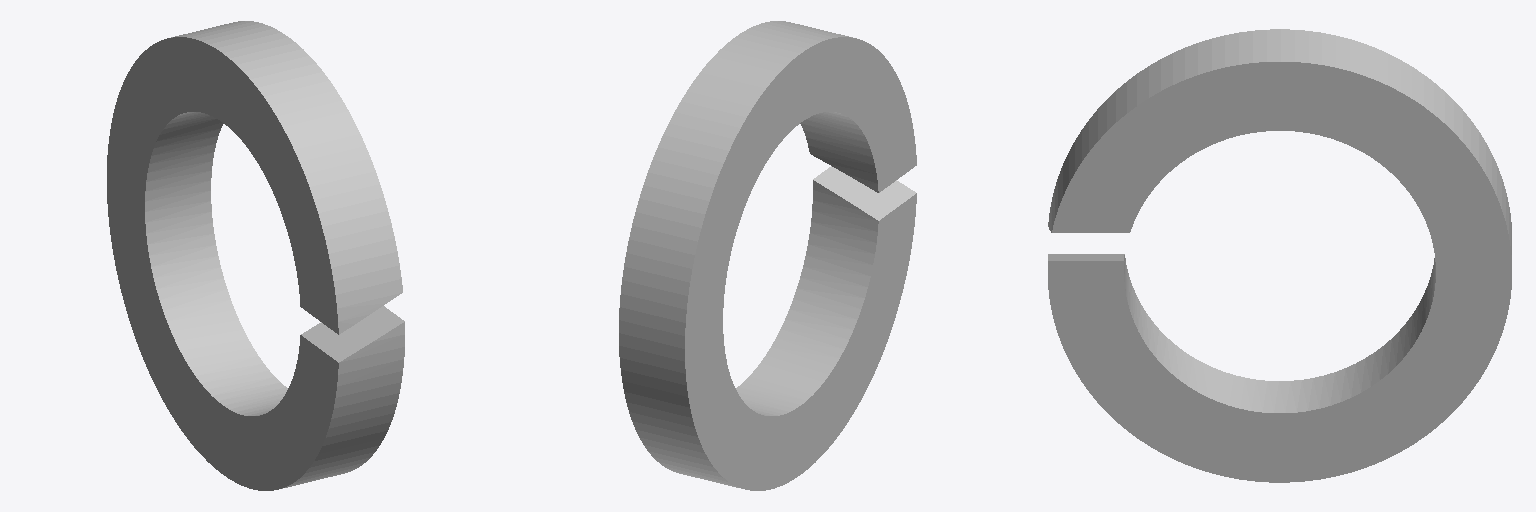
Rendered from Шайба  10 N ГОСТ 6402-70.obj.
3 views of the same model, side by side, from view 1: azimuth 30°, elevation 25°; view 2: azimuth 150°, elevation 25°; view 3: azimuth 270°, elevation 25° (orthographic).
Parts seen in each view (by area): view 1: Solid1; view 2: Solid1; view 3: Solid1.
Boxes of the visible parts, <box> form: Solid1: <box>107,21,404,490</box>; Solid1: <box>619,21,916,490</box>; Solid1: <box>1048,29,1511,482</box>.
Bounding box in the file's own units: 2.5 × 15.2 × 15.2.